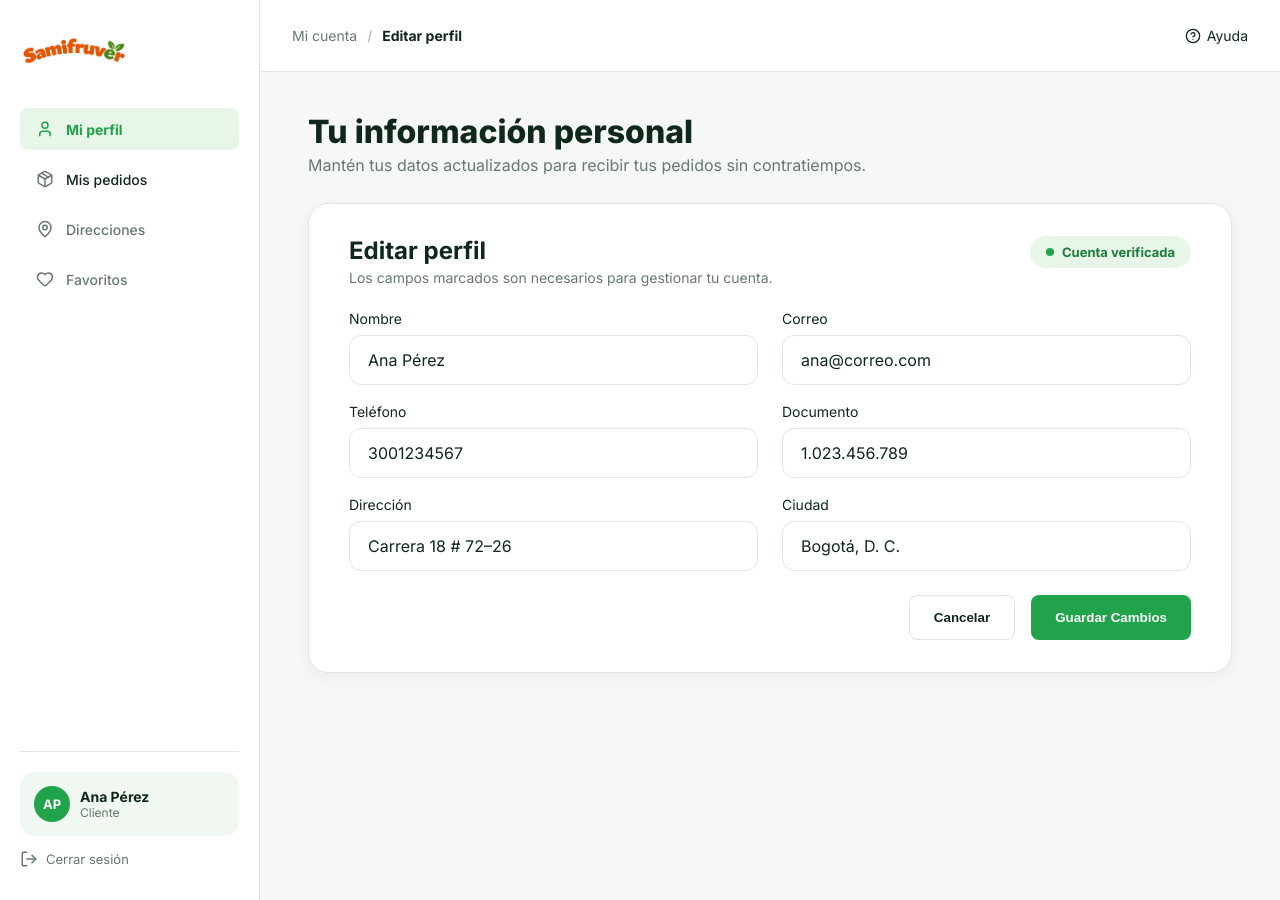
Test: Editar perfil (E2-HU3) › E2-HU3 ESC1: campos obligatorios vacíos → "Este campo es obligatorio" y no envía
This screenshot has width=1280, height=900.
Expected: the field labelled "Documento" holds "1.023.456.789", [799,442,1174,464]
Clear the field labelled "Nombre" at point(554, 360), box [366,349,741,371]
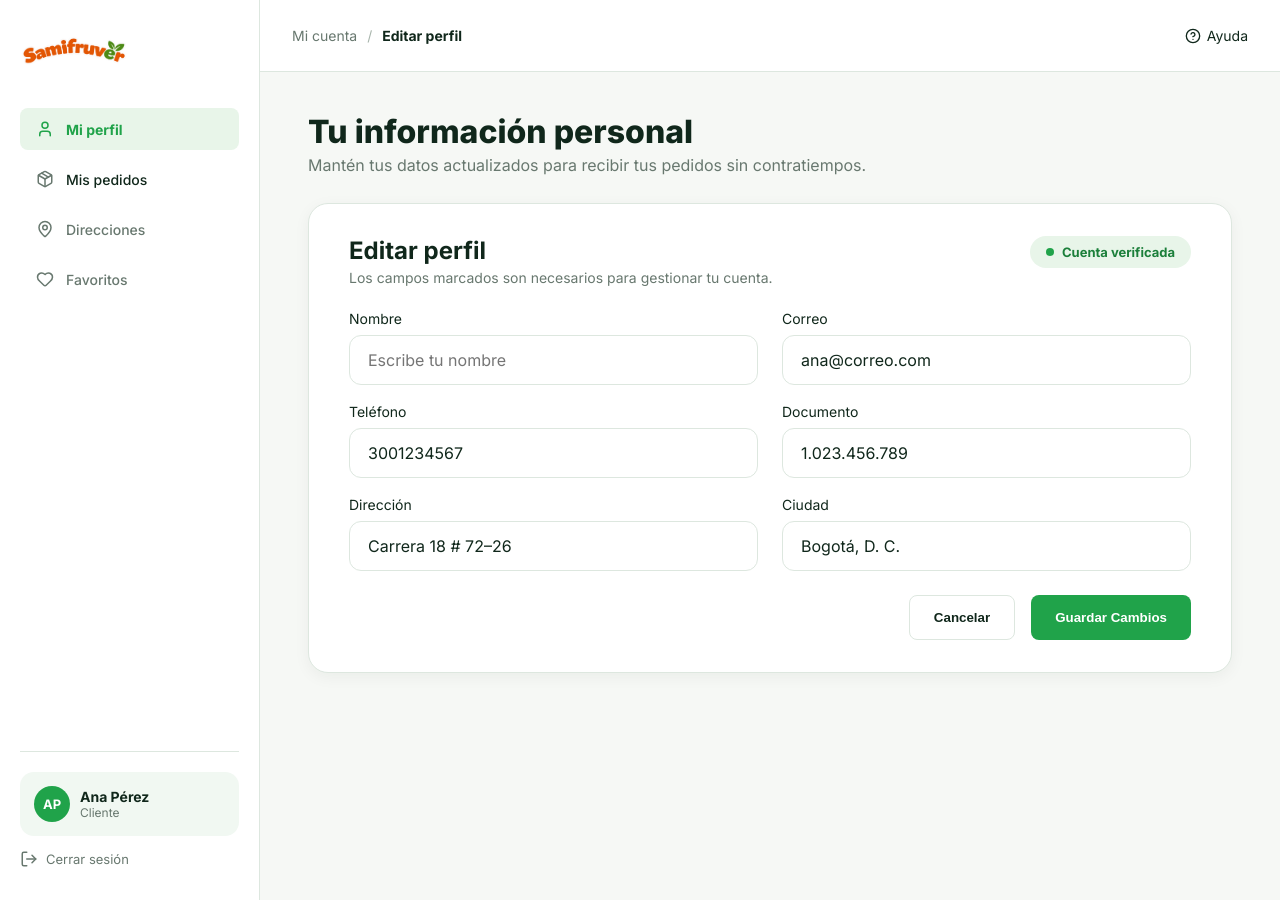
Clear the field labelled "Correo" at point(986, 360), box [799,349,1174,371]
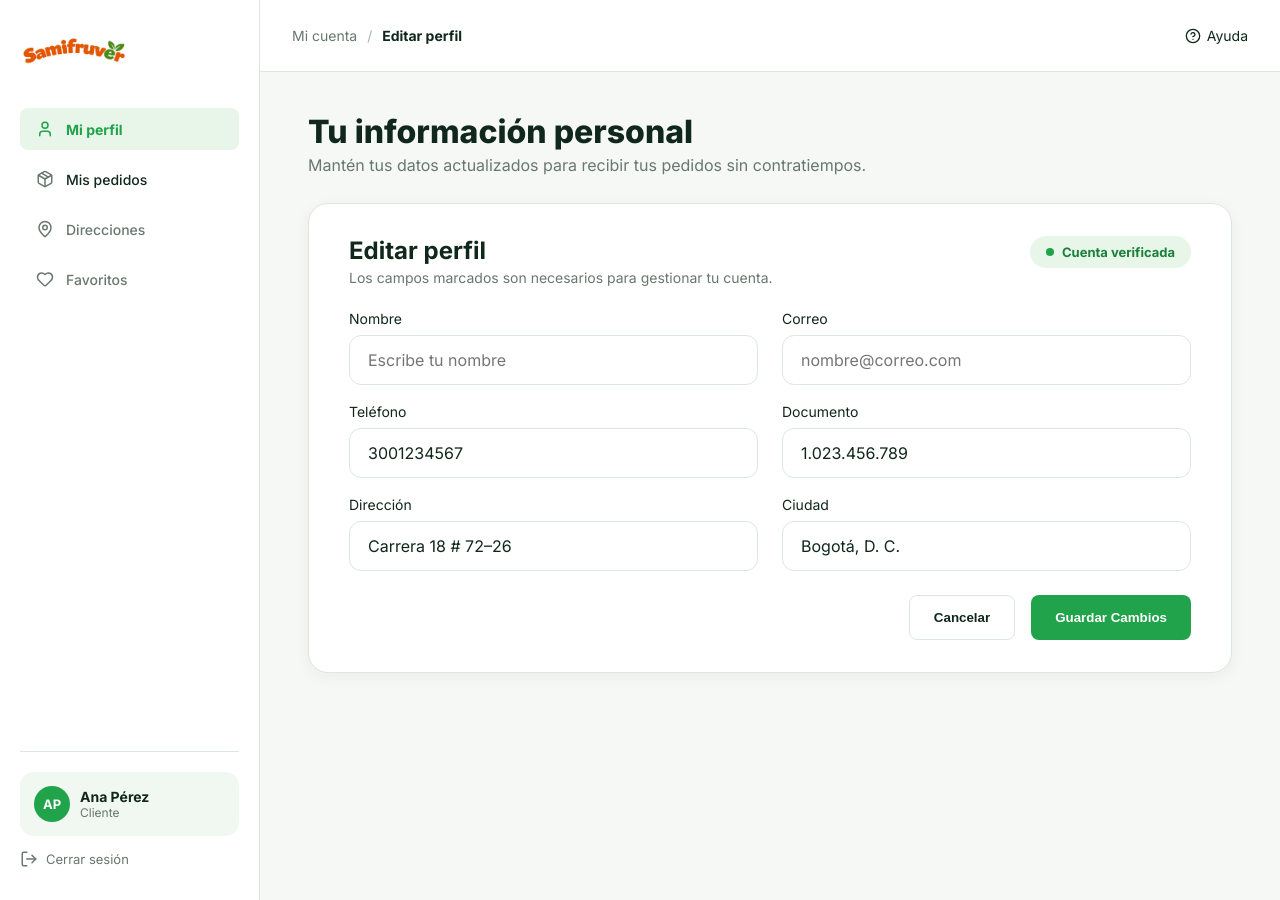
Clear the field labelled "Teléfono" at point(554, 453), box [366,442,741,464]
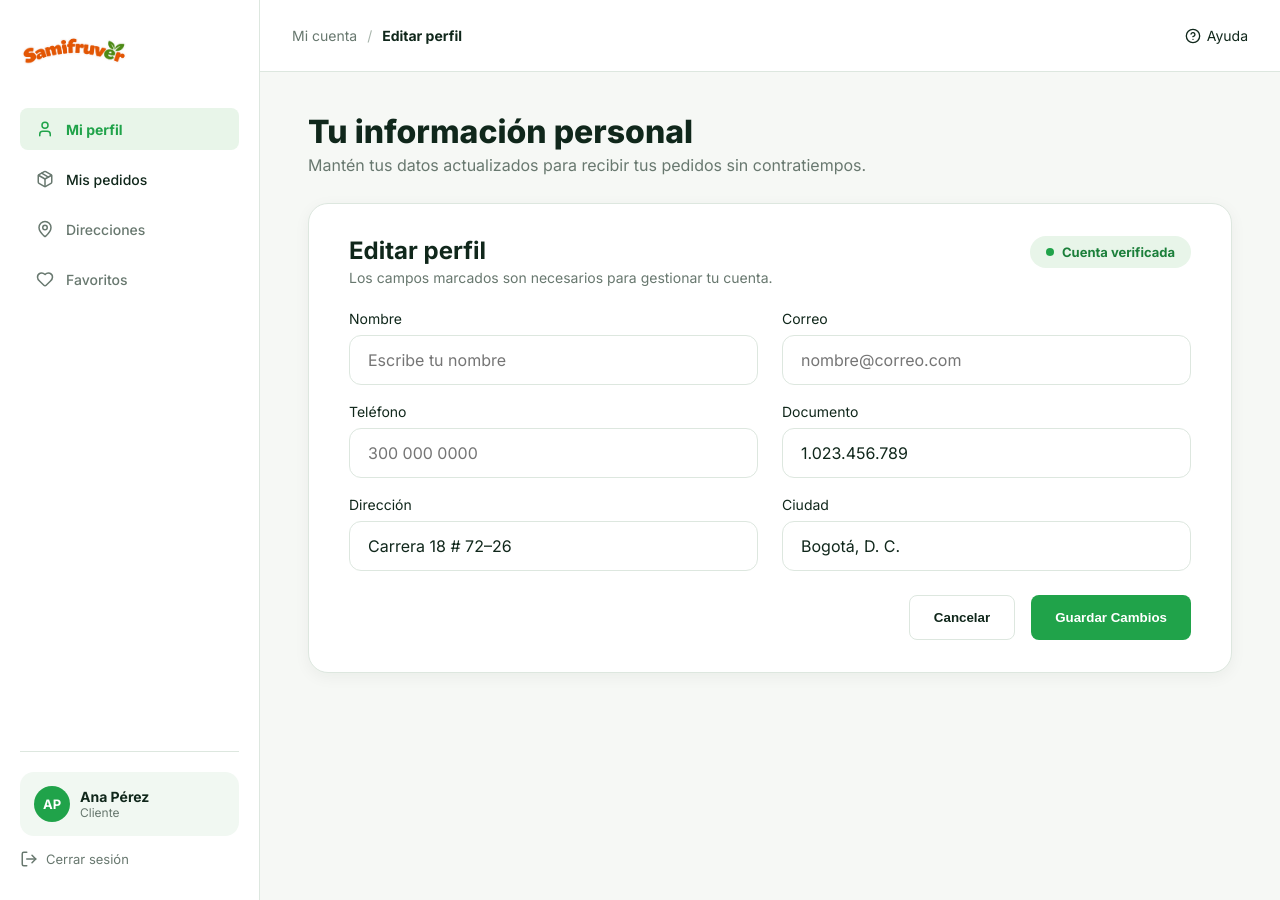
Click the button "Guardar Cambios" at point(1111, 618), box [1031,595,1191,640]
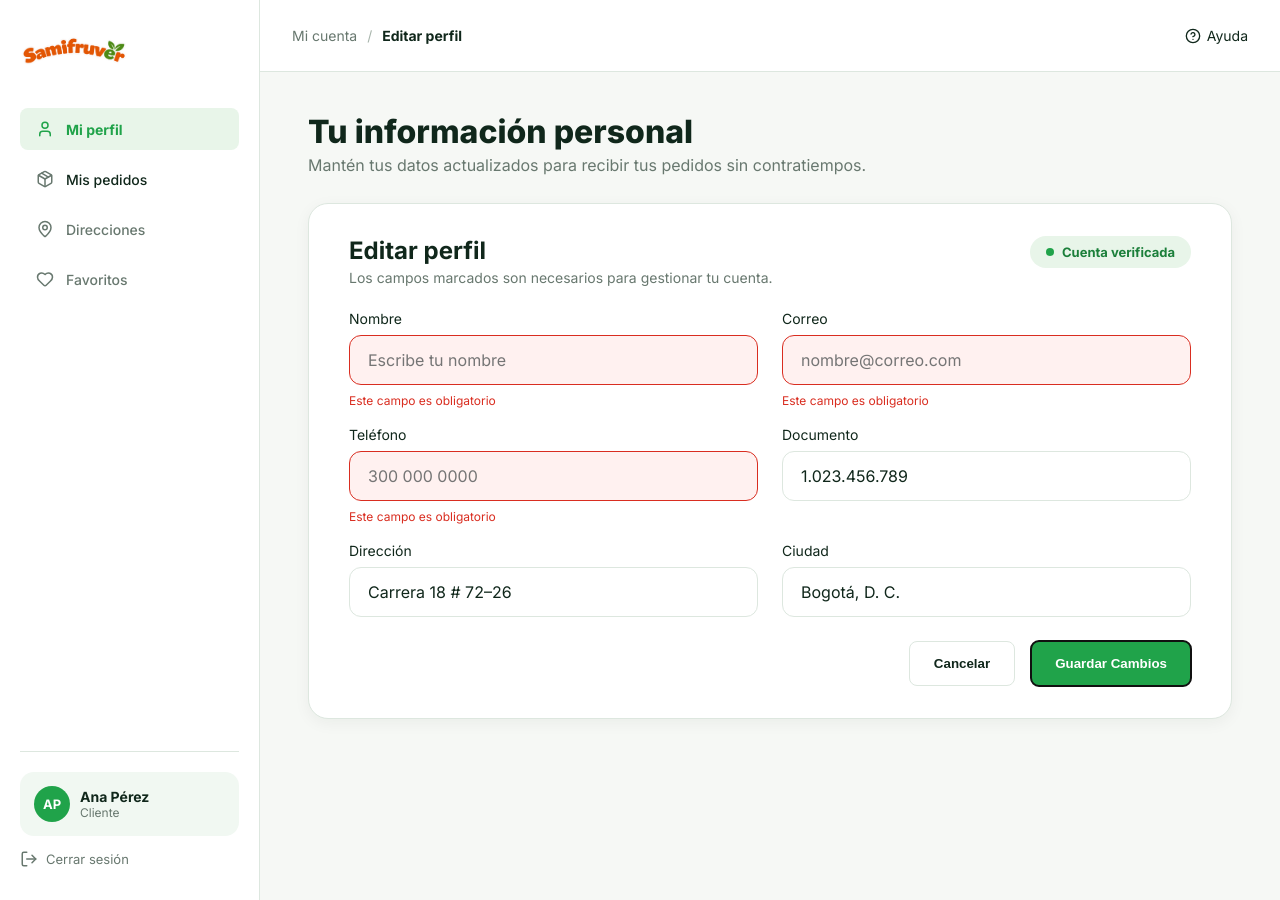
Expected: the text "Este campo es obligatorio" is shown 3 times, [349,393,496,408]; [782,393,929,408]; [349,509,496,524]
